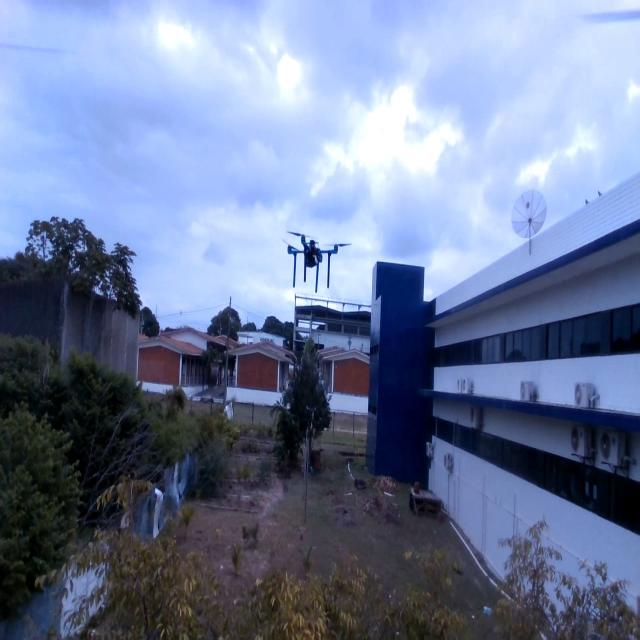-uav-: (276, 216, 351, 307)
